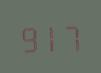nine: (18, 21, 38, 53)
one: (40, 20, 60, 52)
seven: (61, 19, 81, 51)
